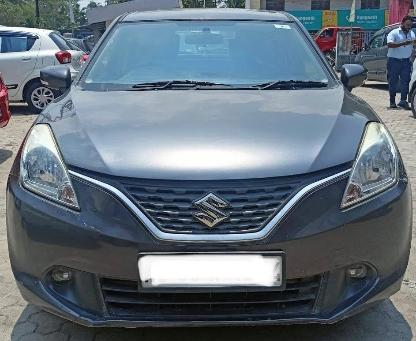car: (6, 8, 412, 334)
